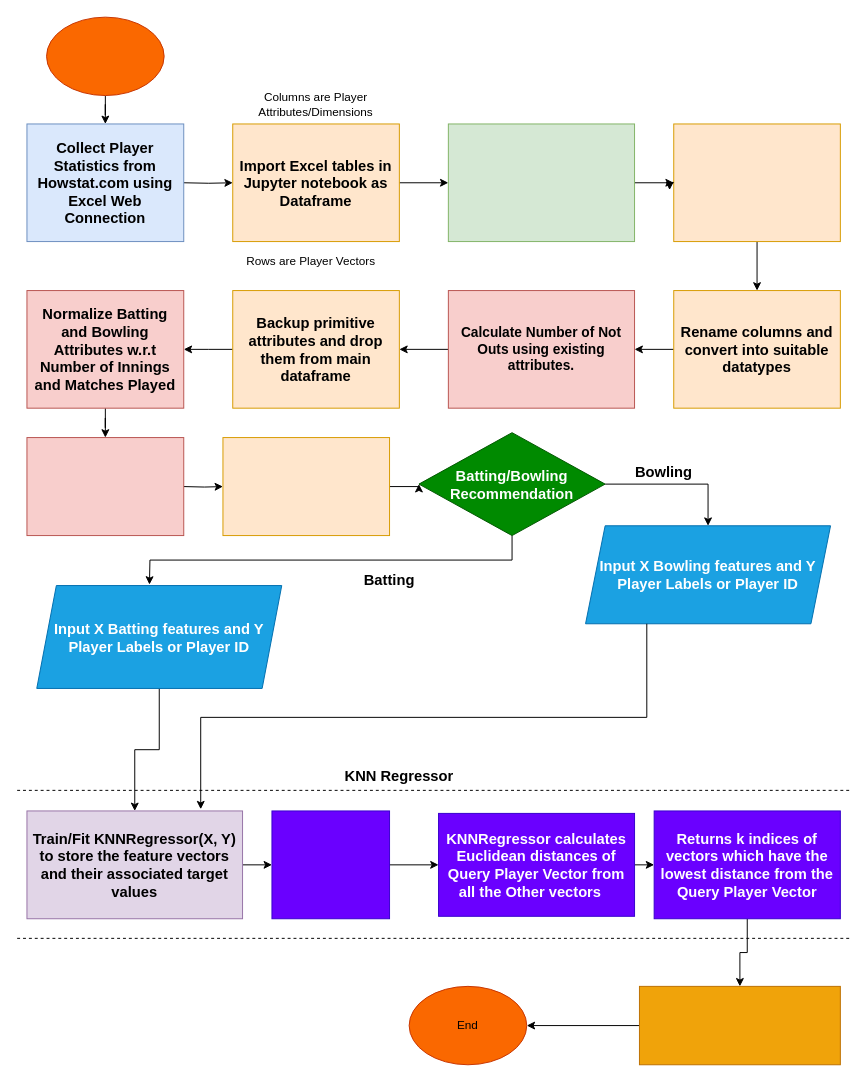
This 868x1082 diagram has some shape labels left out. Each missing label, with the centre of its shape:
"Cleanse the Data by removing unwanted characters in the data" goes at point 541,182.
"Create Dictionary for accessing Team Dataframes using Country Code" goes at point 306,486.
"Create Player ID Column for accessing Player Rows" goes at point 756,182.
"Plot Radar Chart for Query Player and K Recommended Players" goes at point 739,1025.
"Retrieve Query Player Features" goes at point 330,864.
"Separate Relevant Batting and Bowling Features" goes at point 105,486.
"Start" goes at point 105,56.
